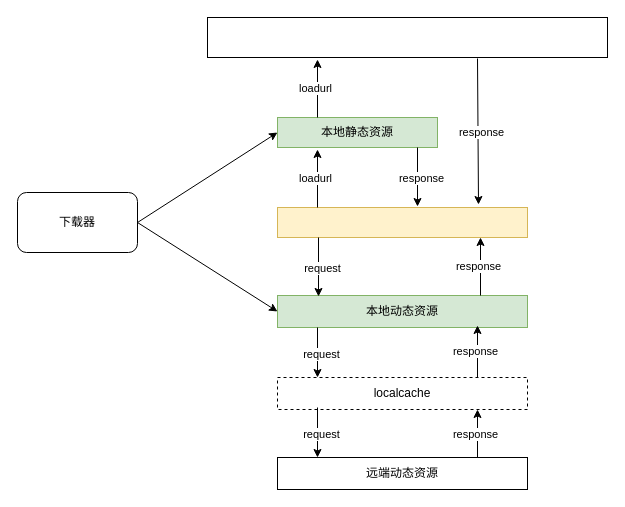
Some shapes in this 625 by 507 pixel diagram are drawn without their labels. Each missing label, with the centre of its shape:
"webview" belongs at point (402, 222).
"远端静态资源" belongs at point (407, 37).
